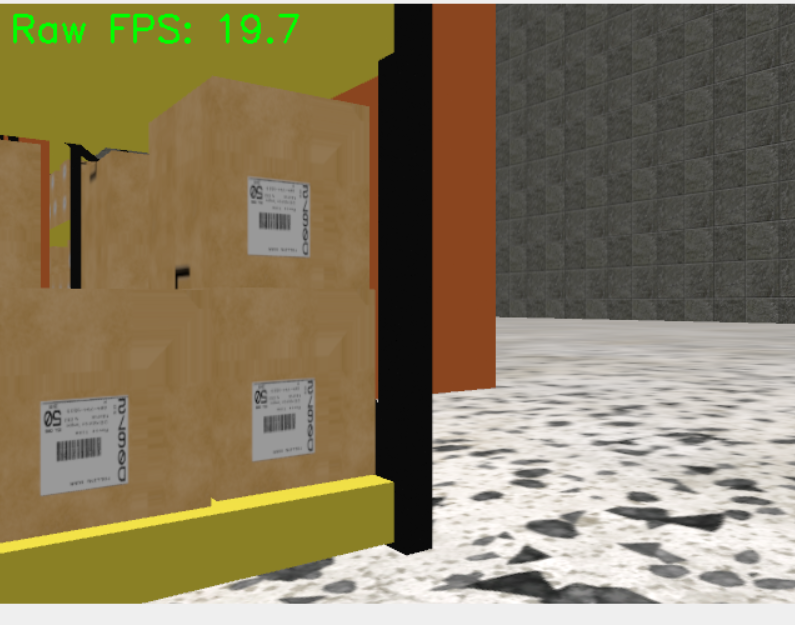barcode: (38, 393, 128, 493), (251, 377, 317, 461), (247, 177, 312, 257)
